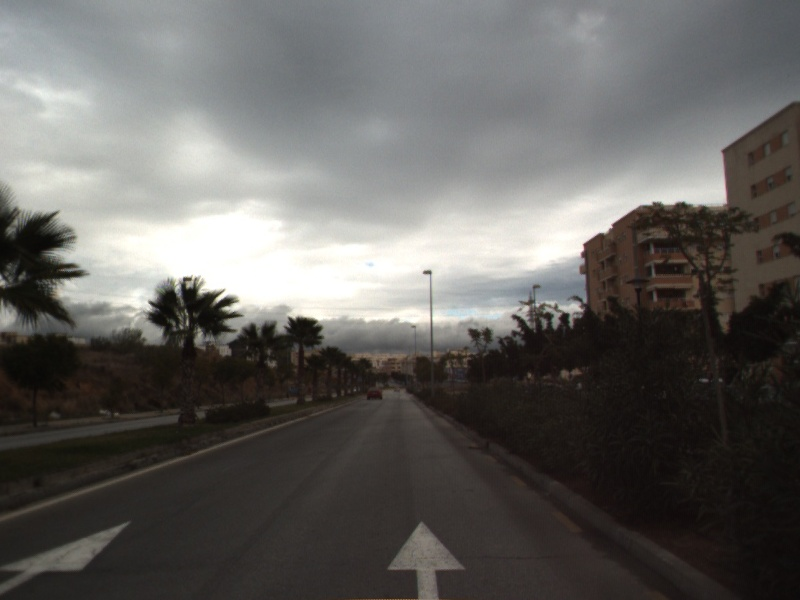STRAIGHT: (1, 518, 134, 596), (385, 519, 468, 600)
